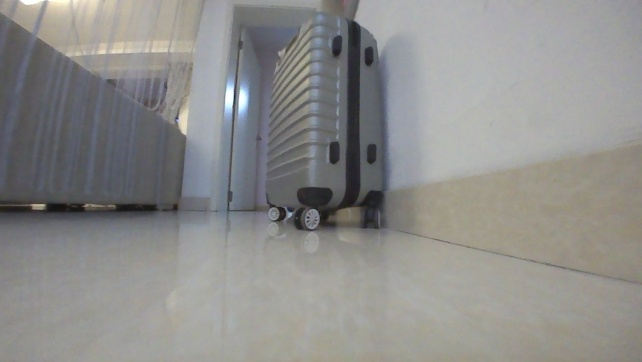door_anno: (210, 0, 263, 215)
sofa1: (0, 8, 185, 212)
